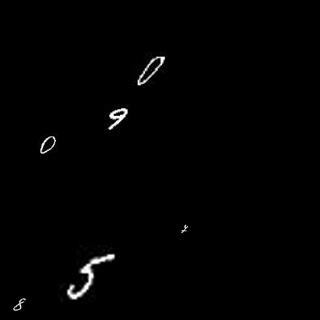eight: (10, 296, 30, 310)
five: (67, 255, 117, 301)
nine: (106, 105, 130, 132)
seven: (180, 222, 189, 233)
zero: (136, 52, 169, 86), (39, 133, 62, 156)
